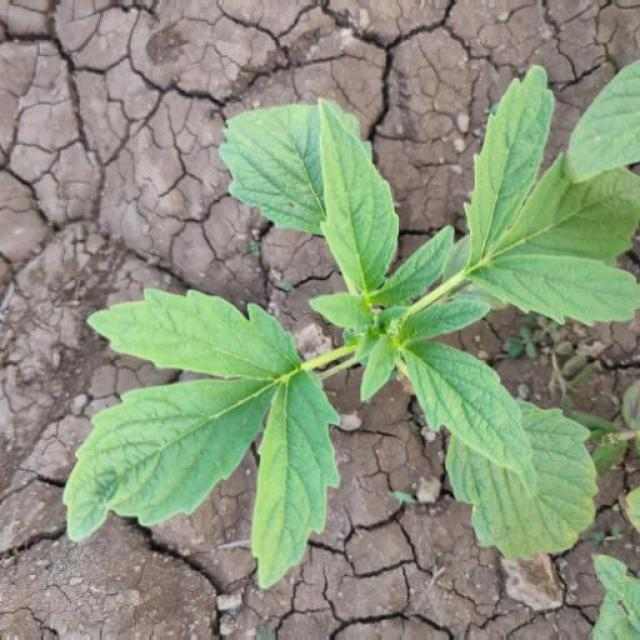crop: (70, 76, 640, 595)
